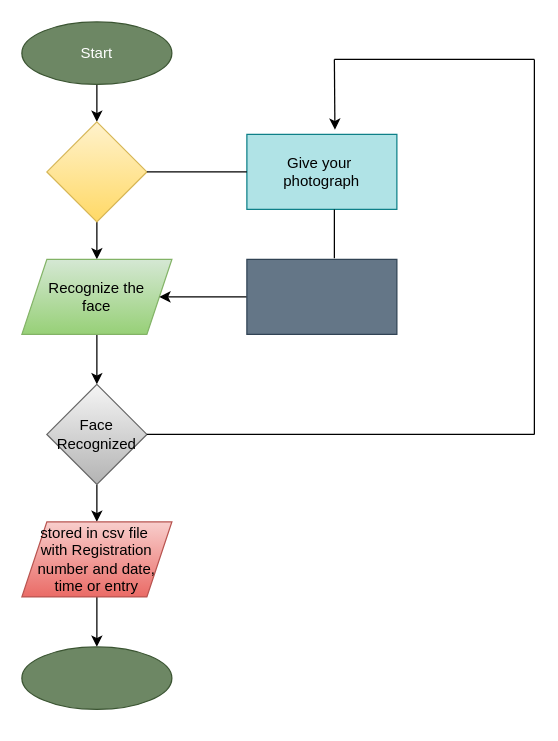
This 558x741 diagram has some shape labels left out. Here are the shapes that lost their labels. From the top down, the centre of each, then its label:
At point (96, 171): "New user".
At point (321, 296): "Store the face data in folder on your name".
At point (96, 677): "Stop".
